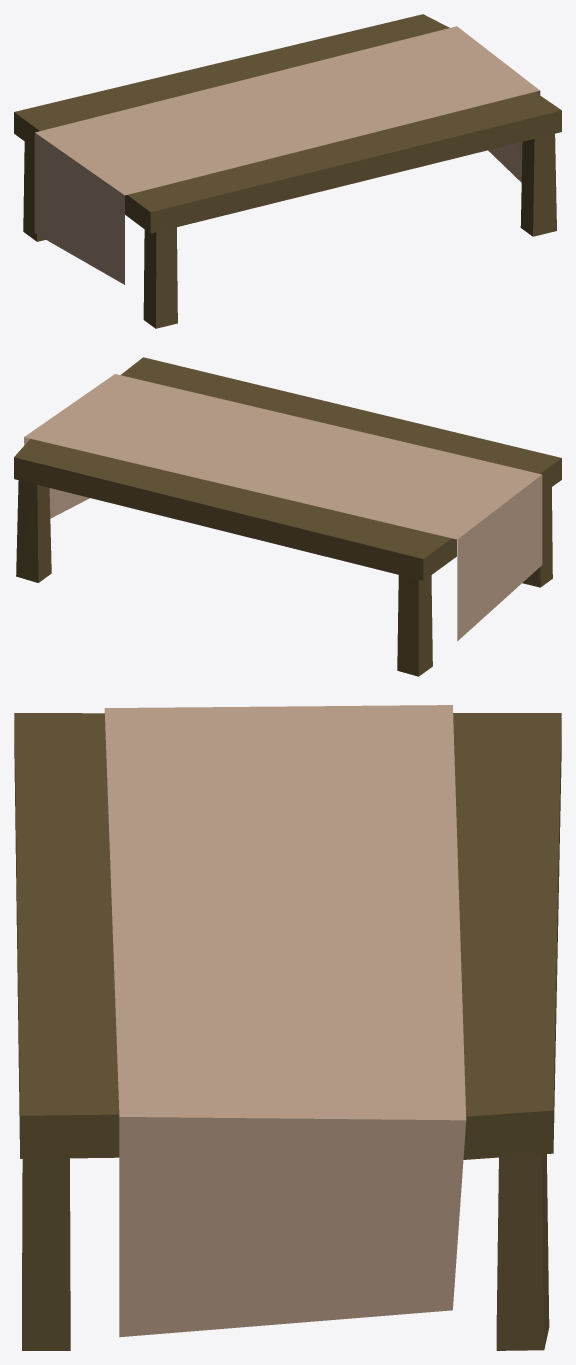
Rendered from Table 07.FBX.
3 views of the same model, one above another, from view 1: azimuth 30°, elevation 25°; view 2: azimuth 150°, elevation 25°; view 3: azimuth 270°, elevation 25° (orthographic). The views are drawn at different scales.
Parts seen in each view (by area): view 1: Table 07; view 2: Table 07; view 3: Table 07.
Boxes of the visible parts, x1=… form: Table 07: x1=14, y1=14, x2=561, y2=328; Table 07: x1=14, y1=357, x2=561, y2=676; Table 07: x1=14, y1=705, x2=561, y2=1350.
Bounding box in the file's own units: 288 × 78.12 × 160.
